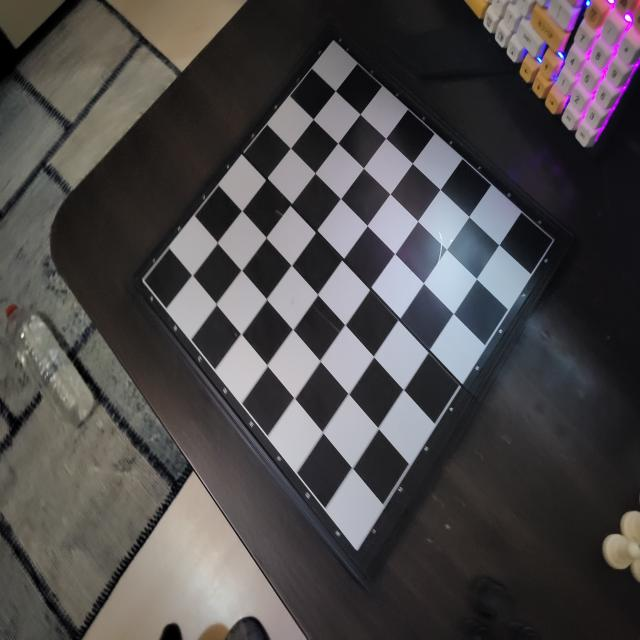chess-board: (140, 38, 555, 564)
